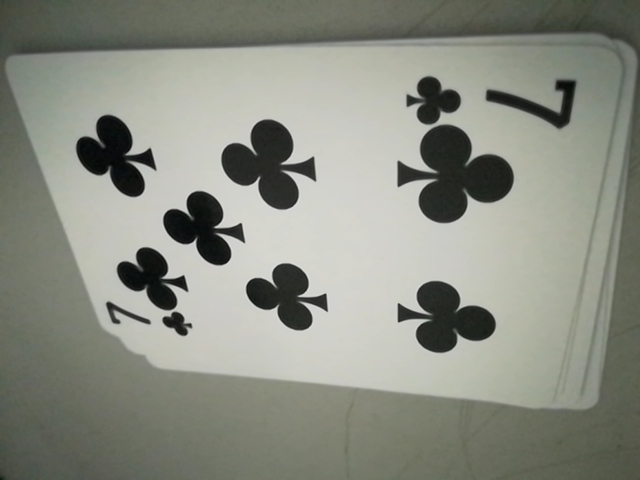mh 7: (399, 62, 586, 130), (100, 297, 192, 348)
